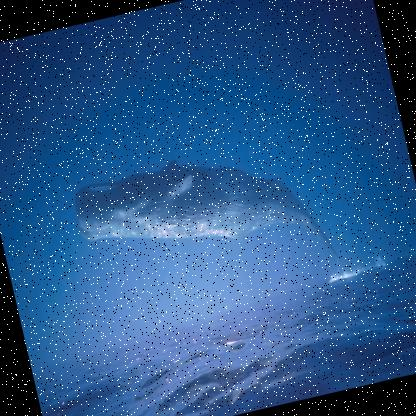sperm_whale: (41, 90, 351, 322)
